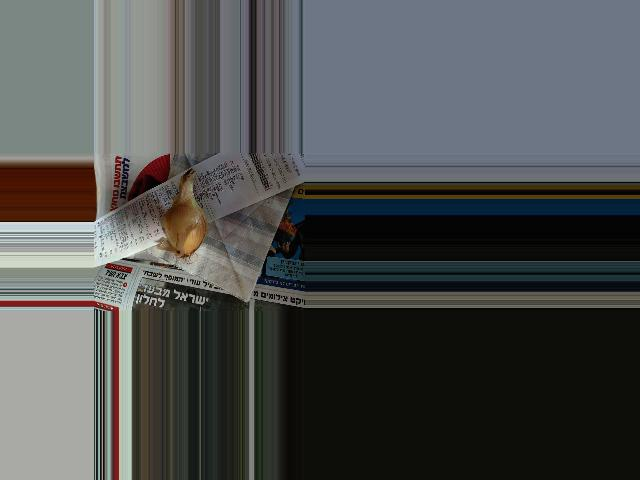onion: (167, 191, 206, 250)
